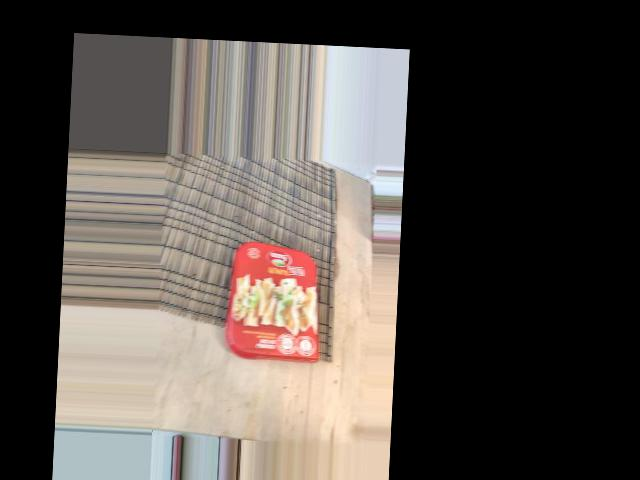cheese: (155, 227, 286, 323)
